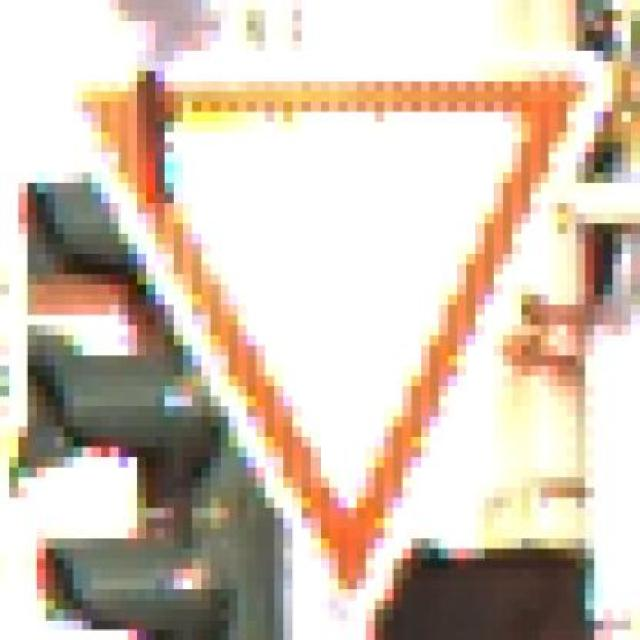Give Way: (55, 31, 622, 620)
